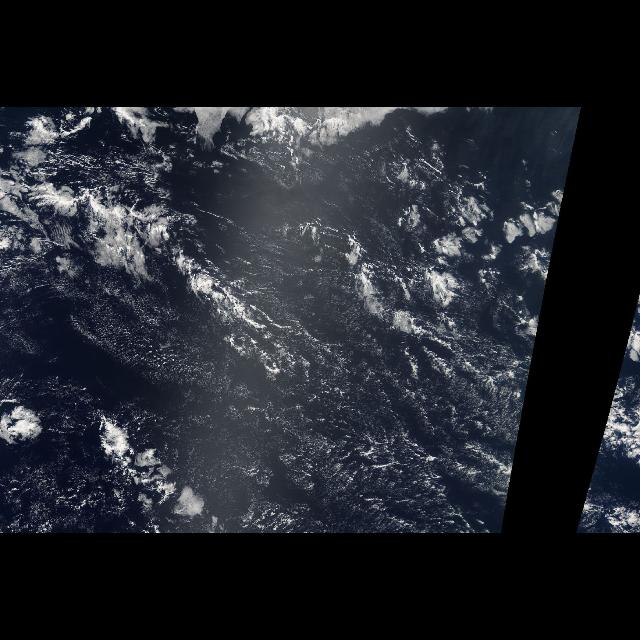Flower: (390, 150, 566, 310)
Sugar: (46, 301, 516, 527)
